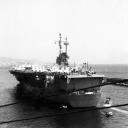Portanaves: (9, 31, 109, 110)
